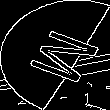M_SE: (11, 23, 99, 87)
